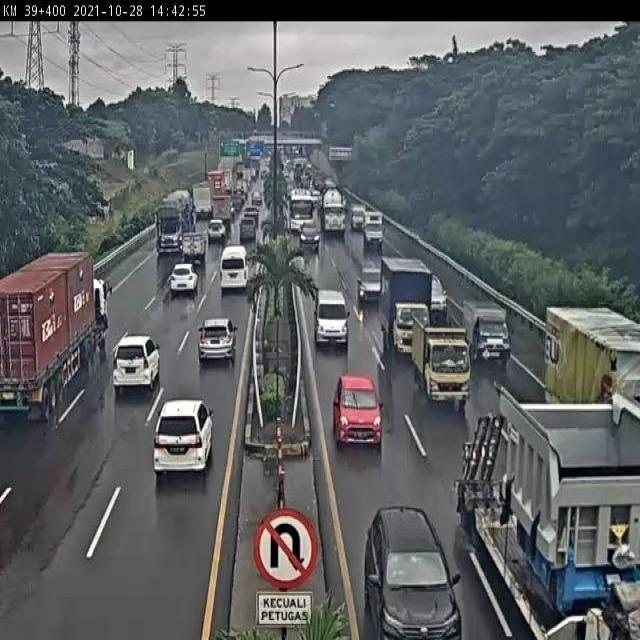big truck: (0, 247, 114, 421)
bus-s-: (312, 288, 352, 349)
car: (367, 506, 464, 640), (154, 398, 215, 478), (330, 372, 385, 447), (115, 332, 164, 395), (198, 316, 238, 363), (221, 245, 250, 292), (356, 266, 390, 306), (169, 263, 199, 297), (429, 274, 448, 310)
truck-m-: (411, 312, 473, 411), (378, 255, 435, 360)
truck-s-: (463, 302, 512, 366)
